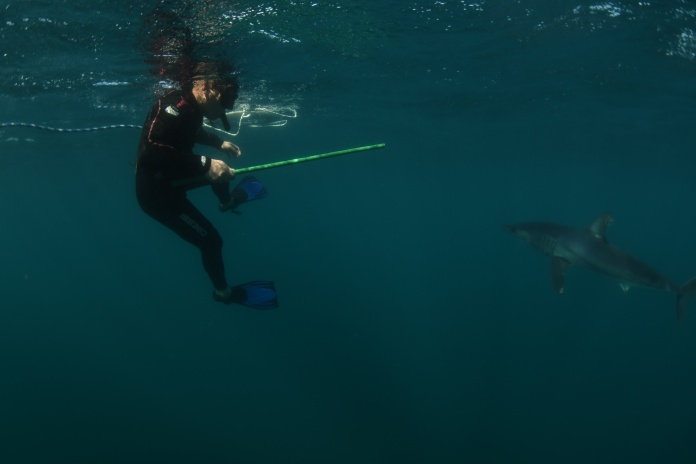Mako: (491, 209, 696, 317)
